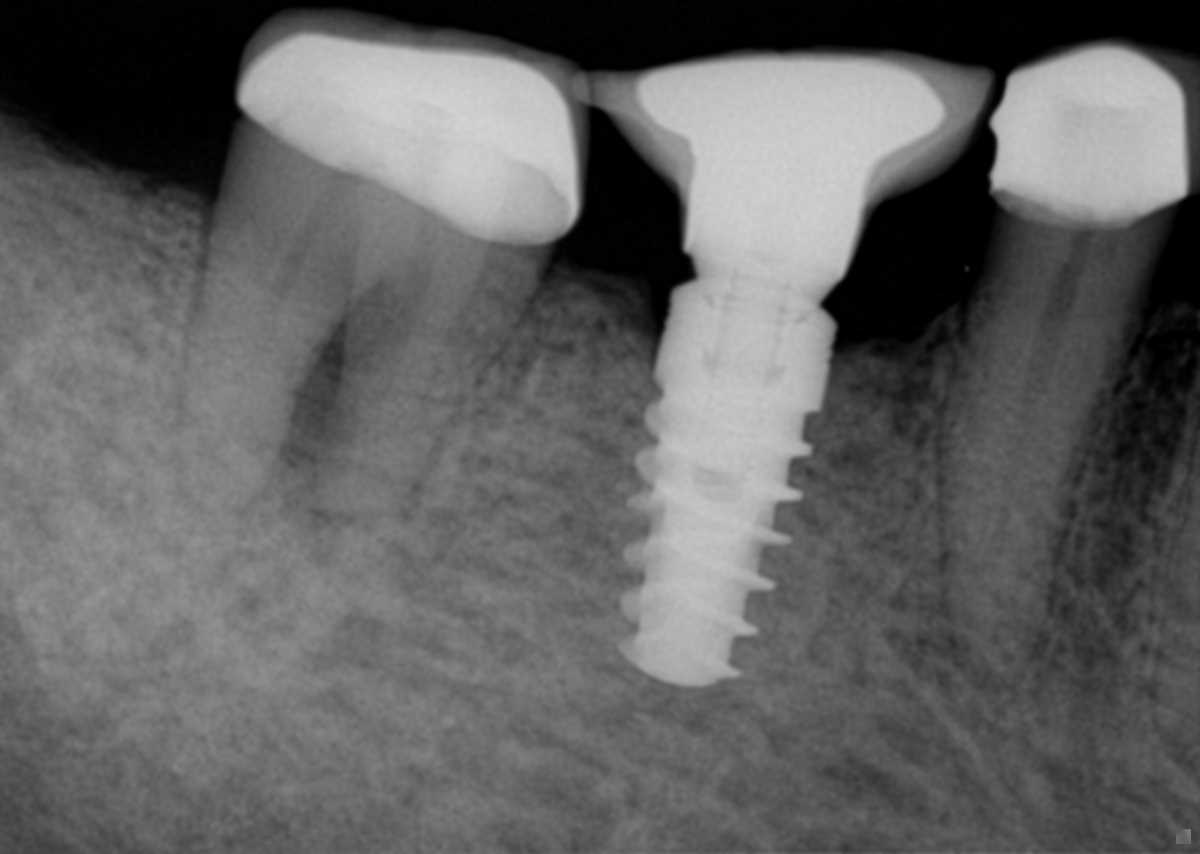Apical Lesion: (282, 356, 440, 571)
Distal Canal: (253, 251, 303, 371)
Distal Root: (171, 205, 353, 508)
Mesial Canal: (985, 303, 1074, 593)
Mesial Root: (940, 292, 1145, 690), (318, 254, 532, 518)
